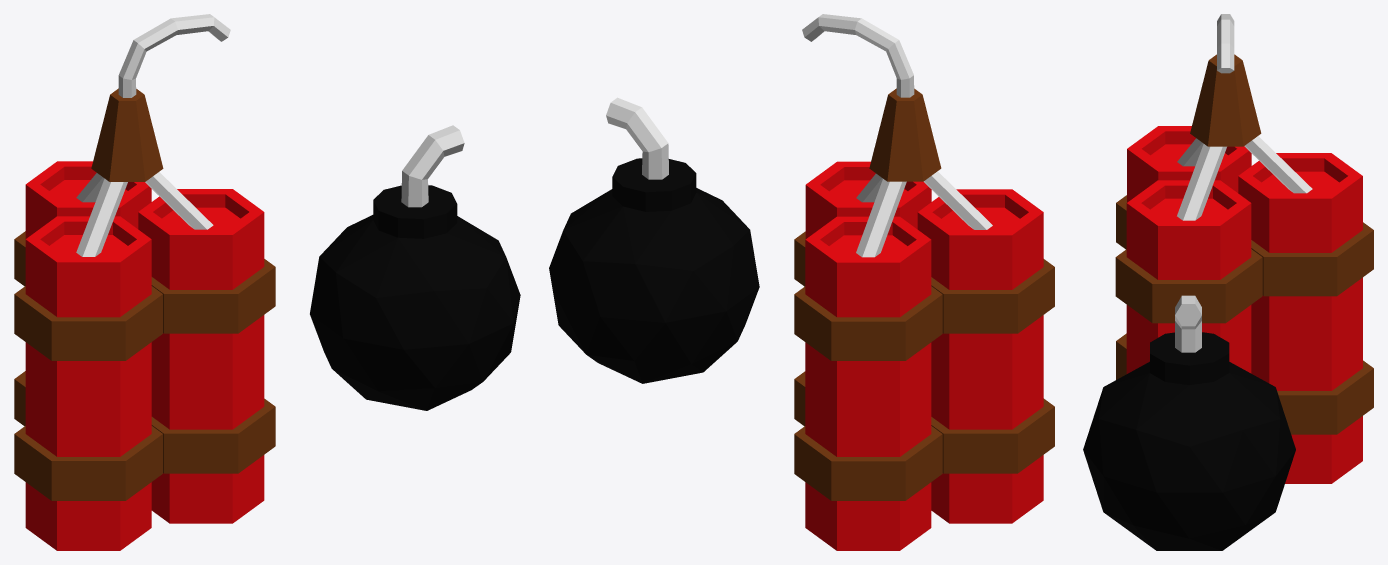
Rendered from explosif.fbx.
3 views of the same model, side by side, from view 1: azimuth 30°, elevation 25°; view 2: azimuth 150°, elevation 25°; view 3: azimuth 270°, elevation 25° (orthographic).
Parts seen in each view (by area): view 1: dynamite, bomb; view 2: dynamite, bomb; view 3: dynamite, bomb.
Part boxes in pixels (x1,y1,x2,y2): dynamite: [14, 14, 275, 550]; bomb: [310, 125, 520, 410]; dynamite: [794, 14, 1054, 550]; bomb: [549, 97, 759, 383]; dynamite: [1115, 14, 1373, 483]; bomb: [1083, 295, 1295, 550].
Bounding box in the file's own units: 505 × 480 × 273.
